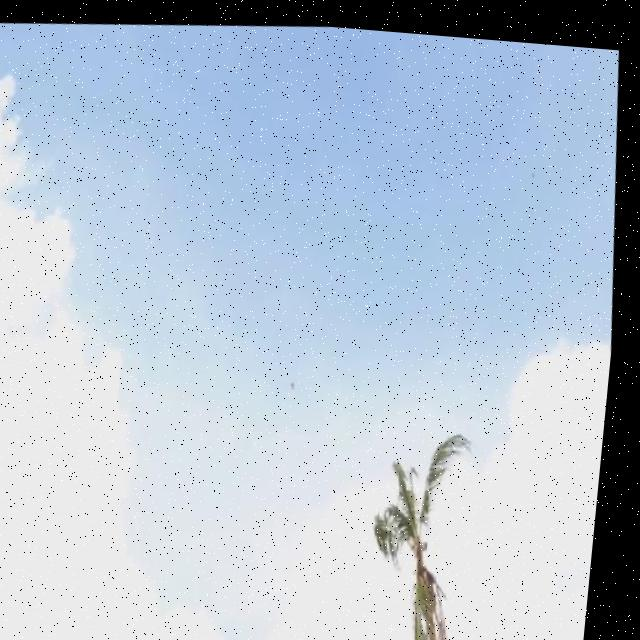drones: (249, 323, 335, 414)
